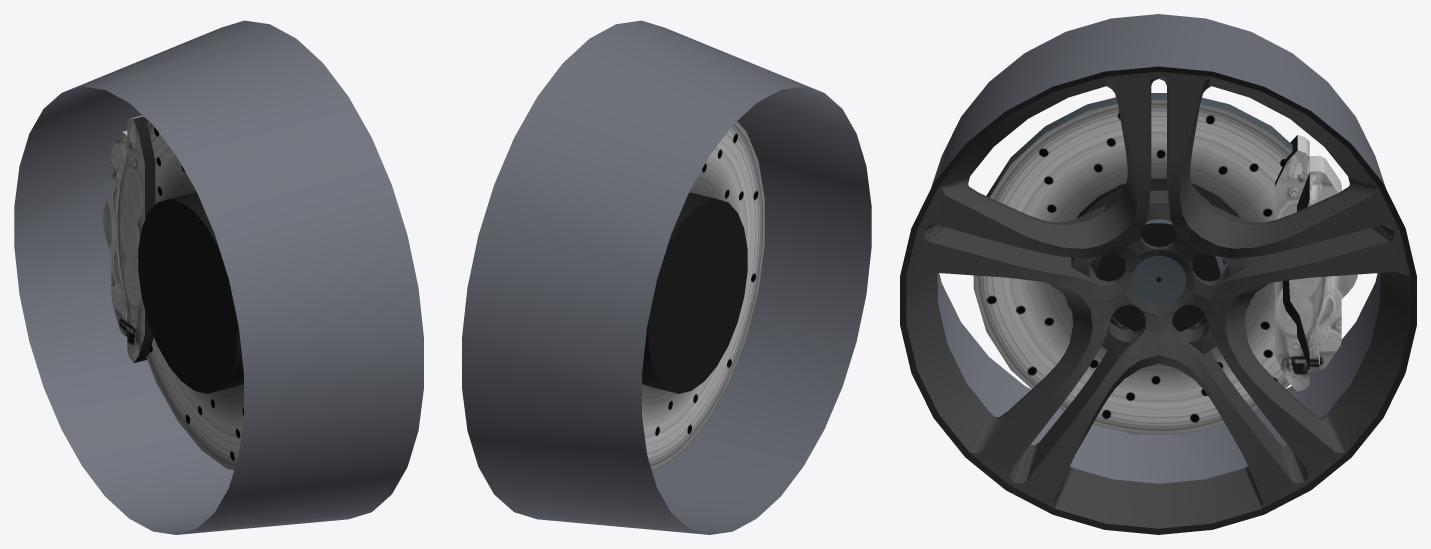
3 renders of one model, left to right at view 1: azimuth 30°, elevation 25°; view 2: azimuth 150°, elevation 25°; view 3: azimuth 270°, elevation 25°, orthographic.
Parts seen in each view (by area): view 1: 050, BrakeDisc, Caliper; view 2: 050, BrakeDisc; view 3: 050, BrakeDisc, Caliper.
Part boxes in pixels (x1,y1,x2,y2): 050: (14,20,423,534); BrakeDisc: (138,121,243,470); Caliper: (103,115,155,362); 050: (462,20,871,534); BrakeDisc: (642,121,765,470); 050: (900,14,1416,534); BrakeDisc: (973,93,1292,434); Caliper: (1275,135,1357,391).
Bounding box in the file's own units: 0.1991 × 0.5349 × 0.5349.
